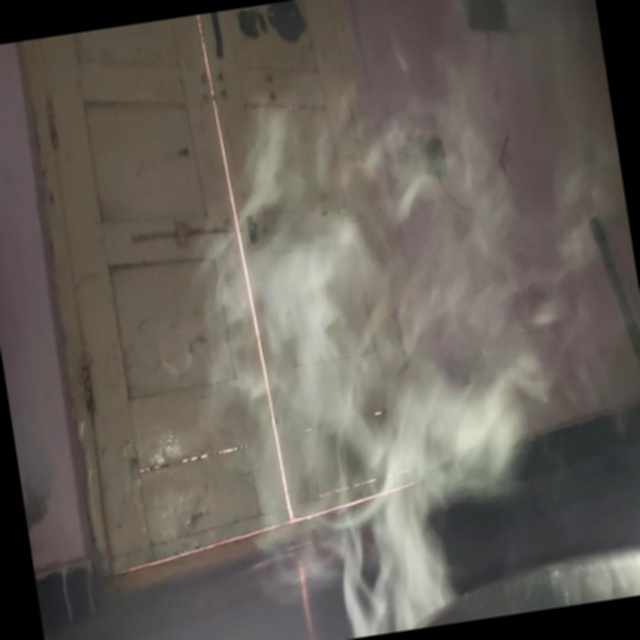smoke: (269, 151, 593, 608)
